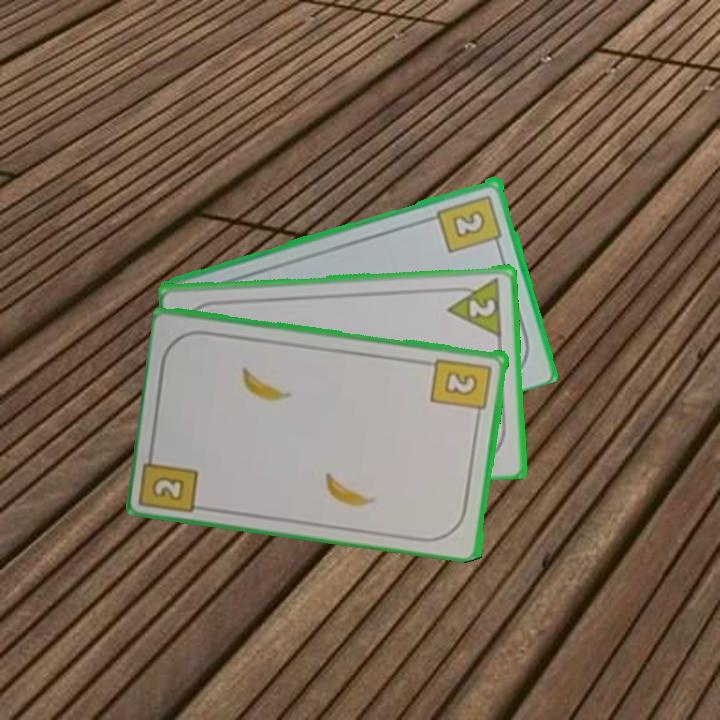2b: (434, 191, 506, 256), (428, 354, 495, 422), (148, 472, 189, 504)
2p: (443, 273, 505, 338)
